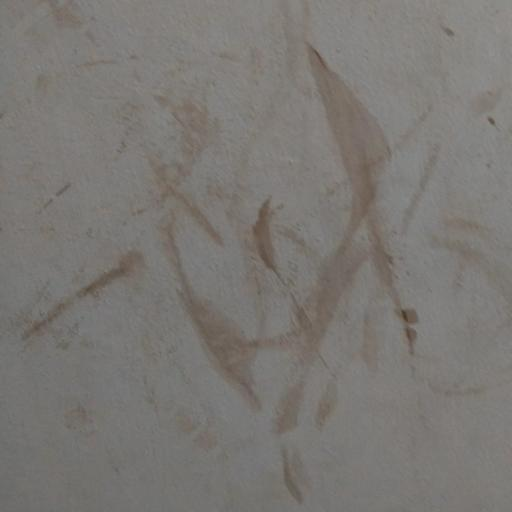stain: (82, 29, 452, 496)
